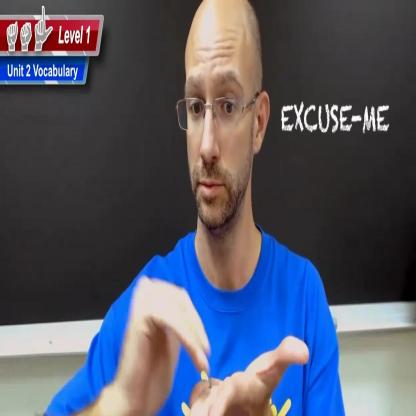ExcuseMe: (112, 274, 310, 416)
